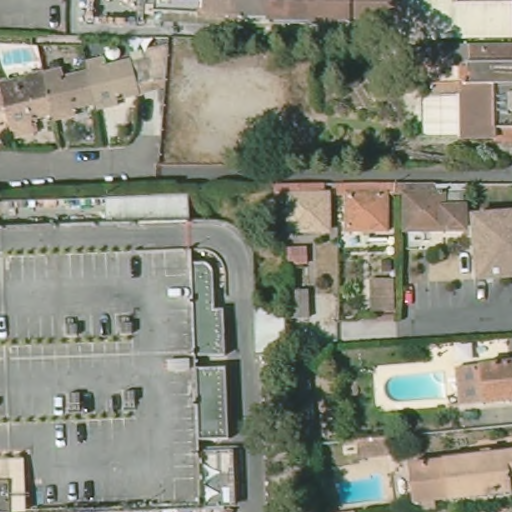pool: (377, 362, 457, 408), (329, 465, 392, 502), (1, 43, 50, 80)
